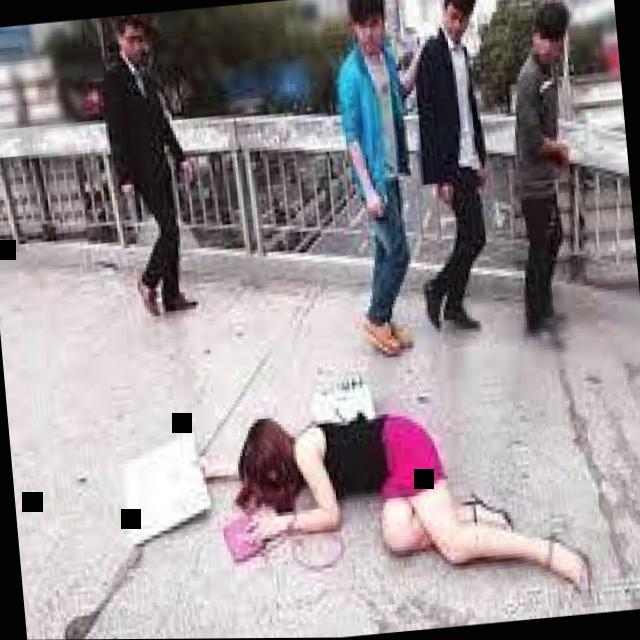Fall-Detected: (200, 360, 604, 638)
